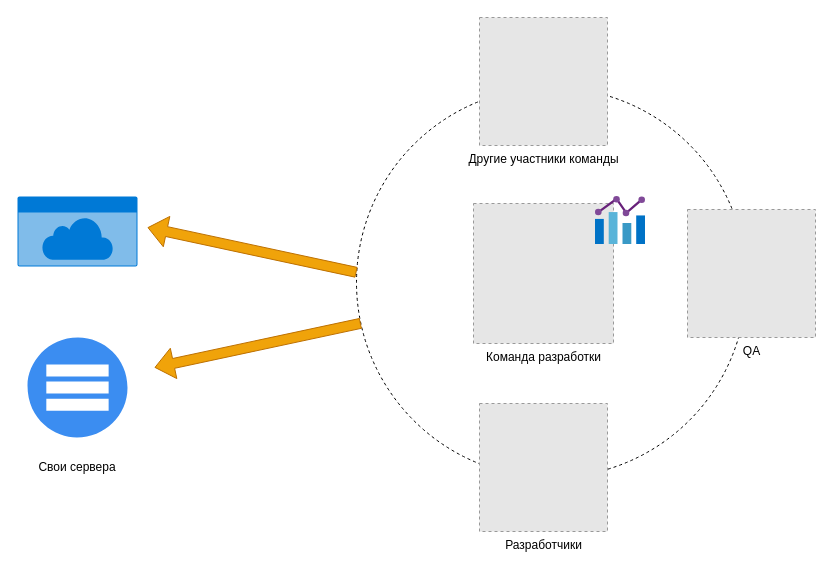
The diagram is 833 pixels wide and 570 high, and some of its shapes have lost their labels. Grey dashed boxes stand in for pictures. Here are the shapes that lost their labels. From the top down, the box of each, then its label:
(17, 196, 137, 266): Cloud
(595, 196, 645, 244): Внутренние процессы
